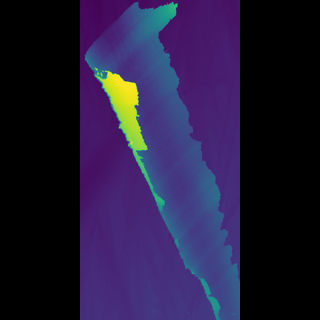Loch: (121, 1, 201, 317)
